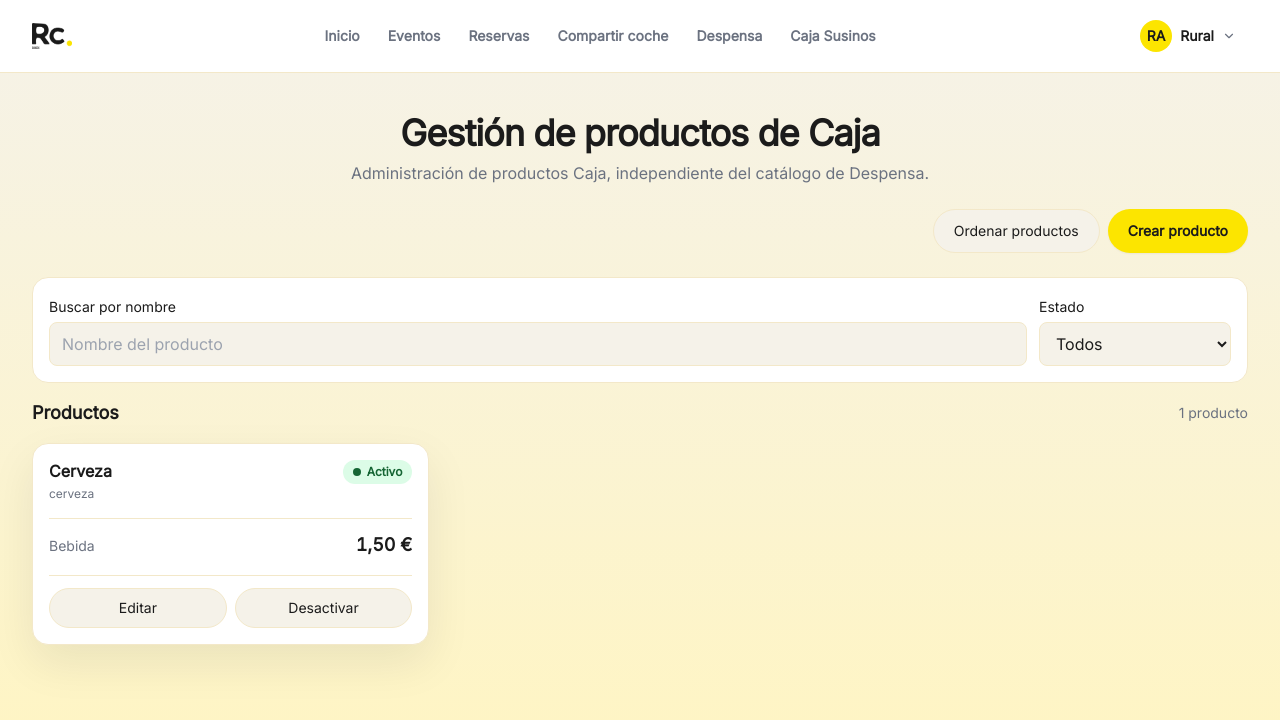
Test case: Caja product administration UI › opens the edit form with existing values and keeps the product ID read-only
Click the button "Editar".
click(138, 608)  # box [49, 588, 227, 628]
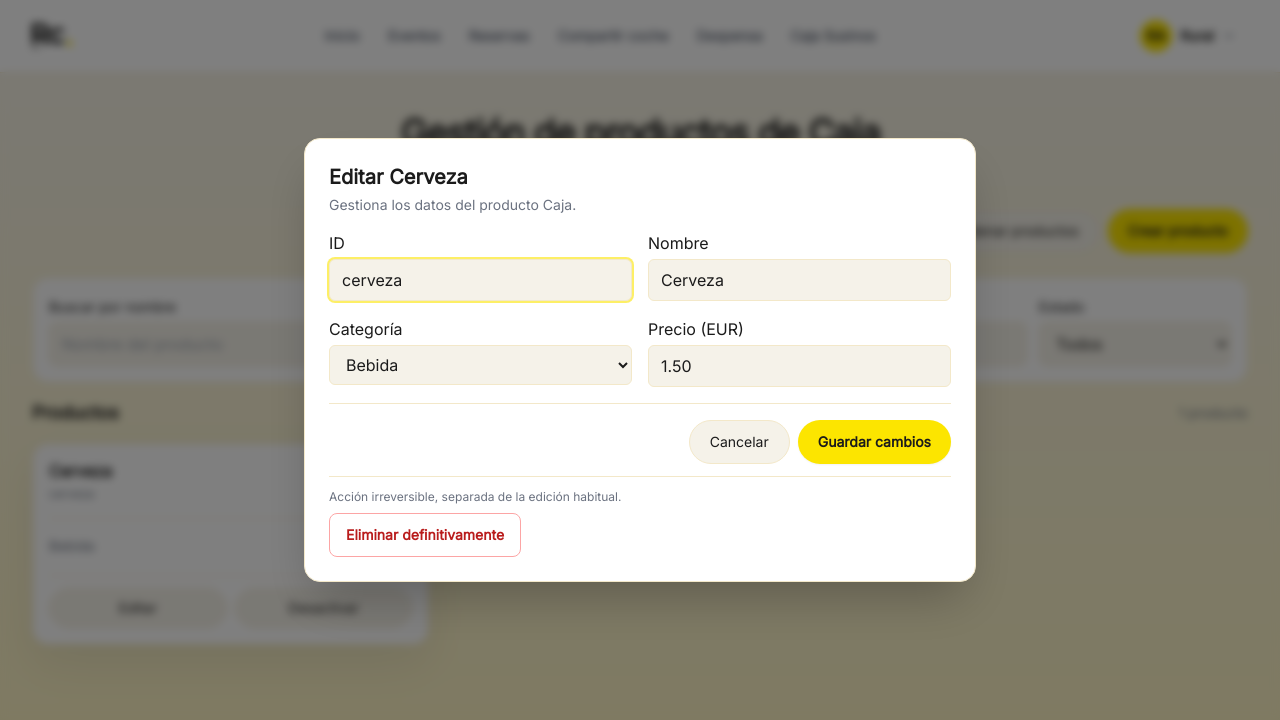
Now the heading "Editar Cerveza" is shown, box [329, 165, 468, 189]
Now the field labelled "ID" holds "cerveza", box [329, 259, 632, 301]
Now the field labelled "Nombre" holds "Cerveza", box [648, 259, 951, 301]
